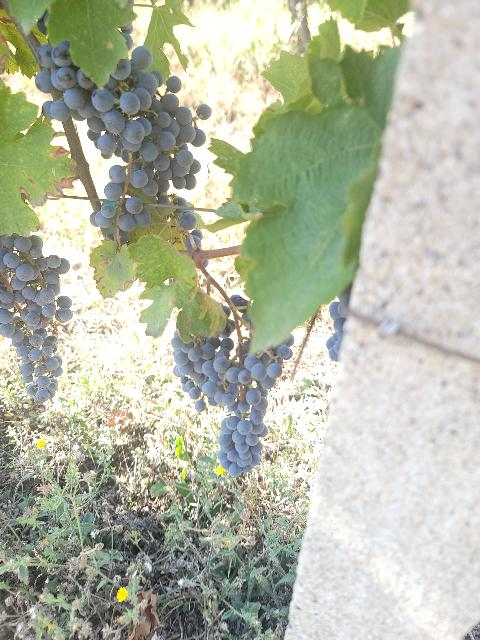grapes: (35, 40, 211, 196), (0, 234, 72, 405), (209, 340, 292, 476), (171, 334, 221, 411)
